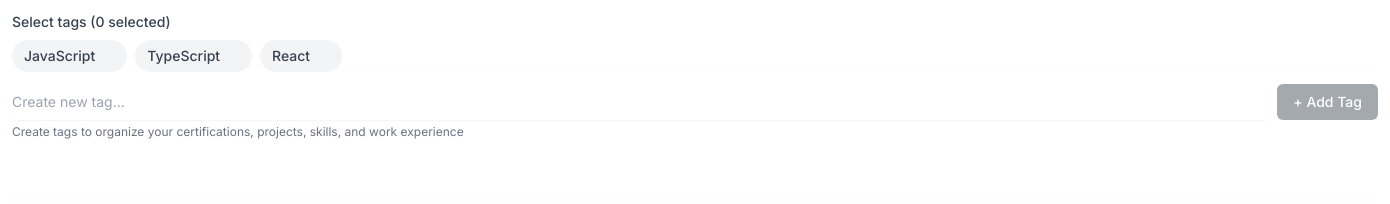
Scenario: TagSelector › error handling › should display error when creating fails
The width and height of the screenshot is (1390, 204).
expect the button "JavaScript" is shown: met, box [12,40,127,72]
Step 1. Type "NewTag" into the field with placeholder "Create new tag..." → {"x": 641, "y": 102}, box [12,84,1269,120]
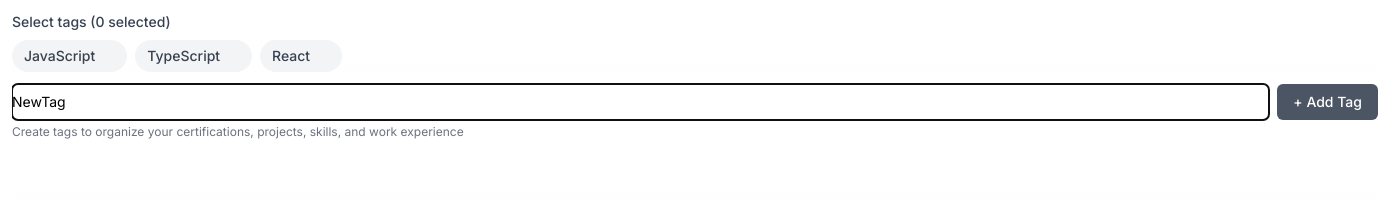
Step 2. Click the button "+ Add Tag" → {"x": 1328, "y": 102}, box [1277,84,1378,120]
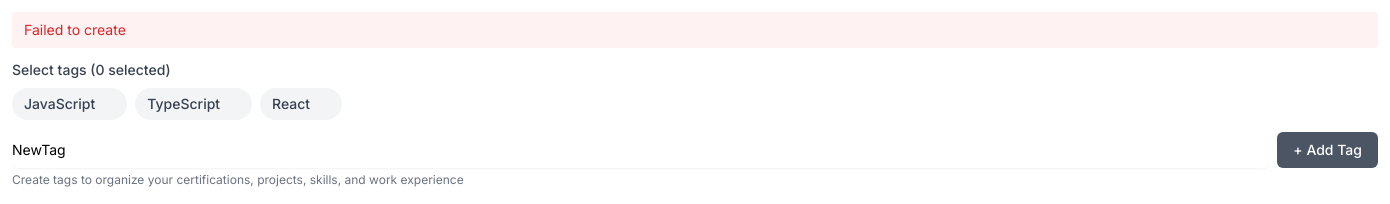
expect the text "Failed to create" is shown: met, box [12,12,1378,48]
